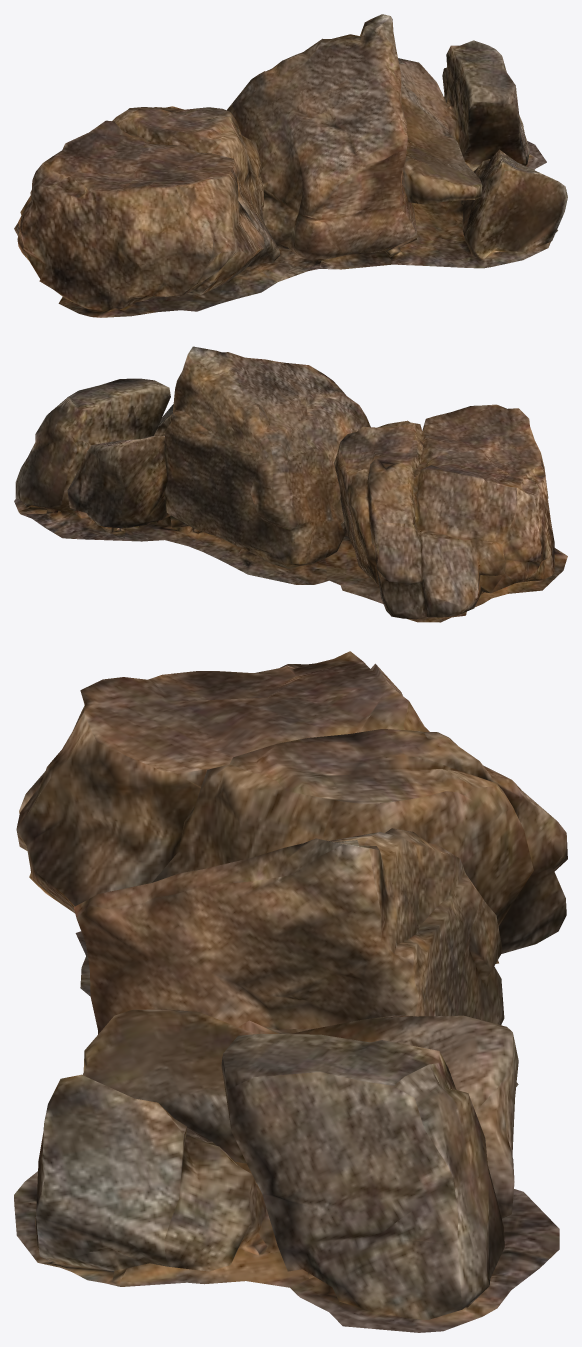
The model's file is namaqualand_boulder_02.glb.
3 renders of one model, top to bottom at view 1: azimuth 30°, elevation 25°; view 2: azimuth 150°, elevation 25°; view 3: azimuth 270°, elevation 25°, orthographic. The views are drawn at different scales.
Visible parts, largest first — view 1: boulder_02; view 2: boulder_02; view 3: boulder_02.
Part boxes in pixels (box(x1,y1,x2,y2)): boulder_02: box(14, 14, 567, 317); boulder_02: box(14, 346, 567, 622); boulder_02: box(14, 651, 567, 1332).
Size of the model in its own units: 2.52 by 0.8788 by 1.23.
1 material, 1 textured.
